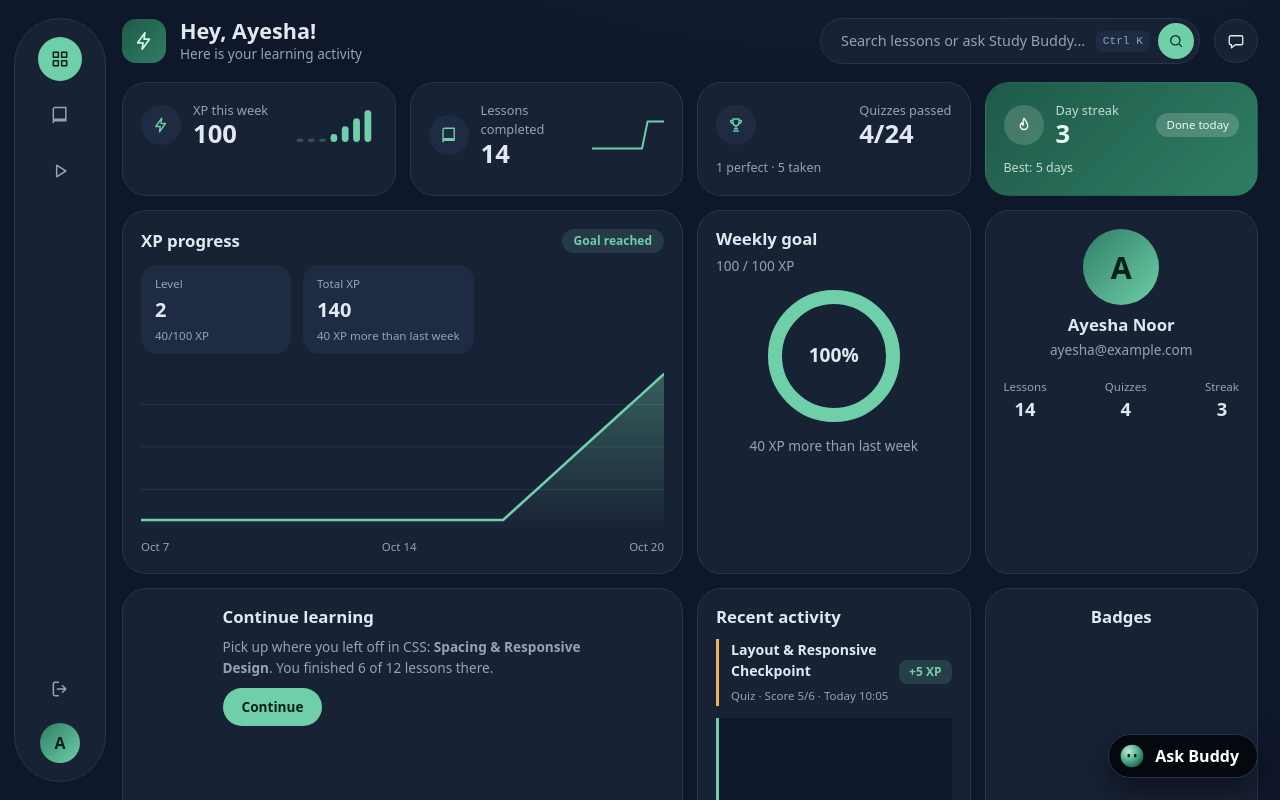
it: Study Buddy panel › opens from the floating button, shows suggestions, and answers a suggestion with real numbers
Click the button "Ask Buddy": (1183, 756) [1108, 734, 1258, 778]
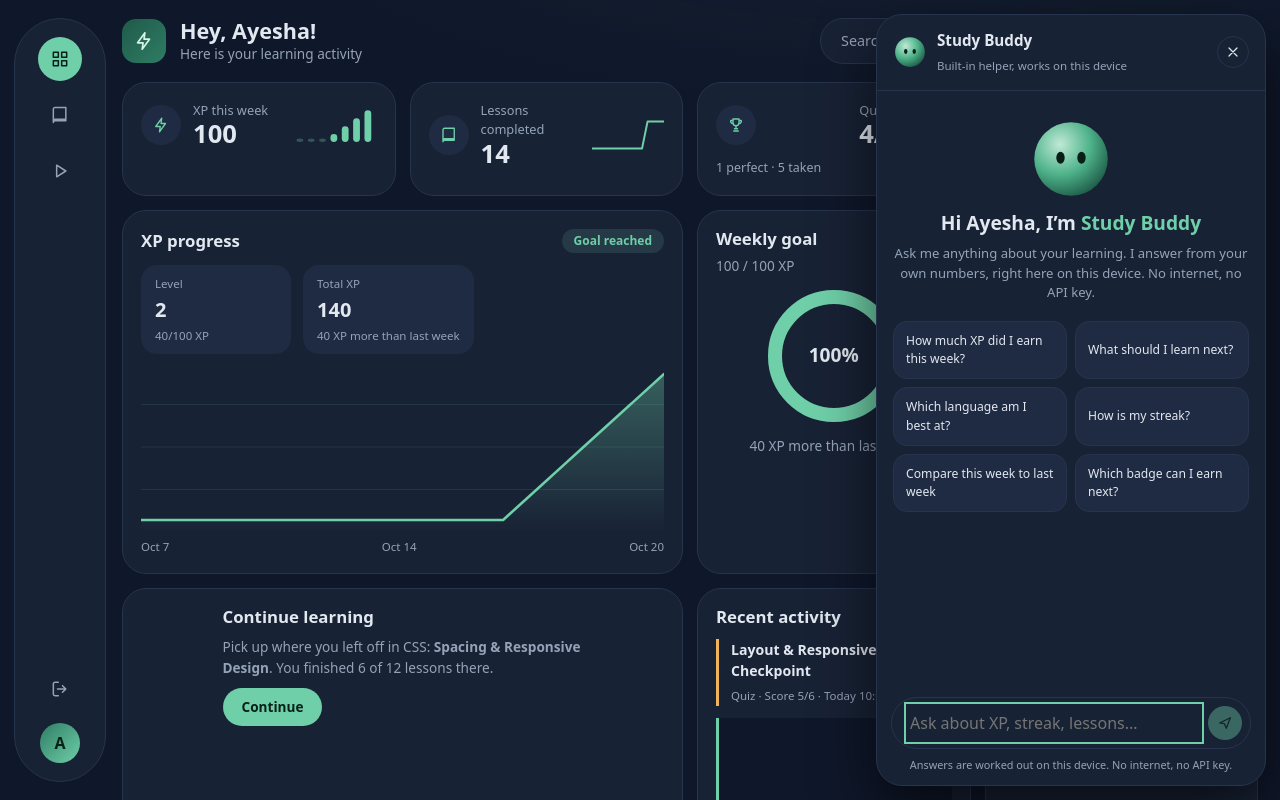
Expected: the heading "Hi Ayesha, I’m Study Buddy" is shown, [941, 211, 1201, 234]
Click the button "How much XP did I earn this week?": (980, 350) [893, 321, 1067, 379]
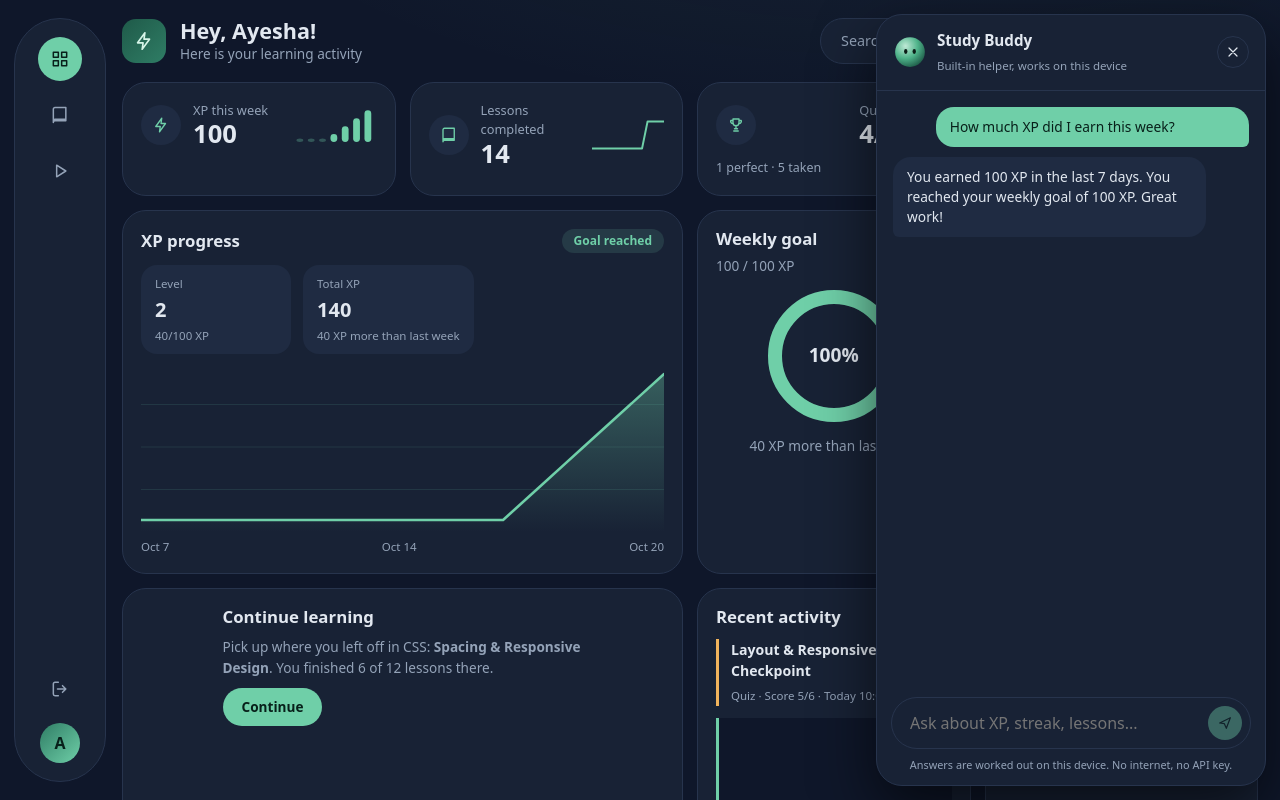
Expected: the text "You earned 100 XP in the last 7 days. You reached your weekly goal" is shown, [907, 167, 1177, 226]
